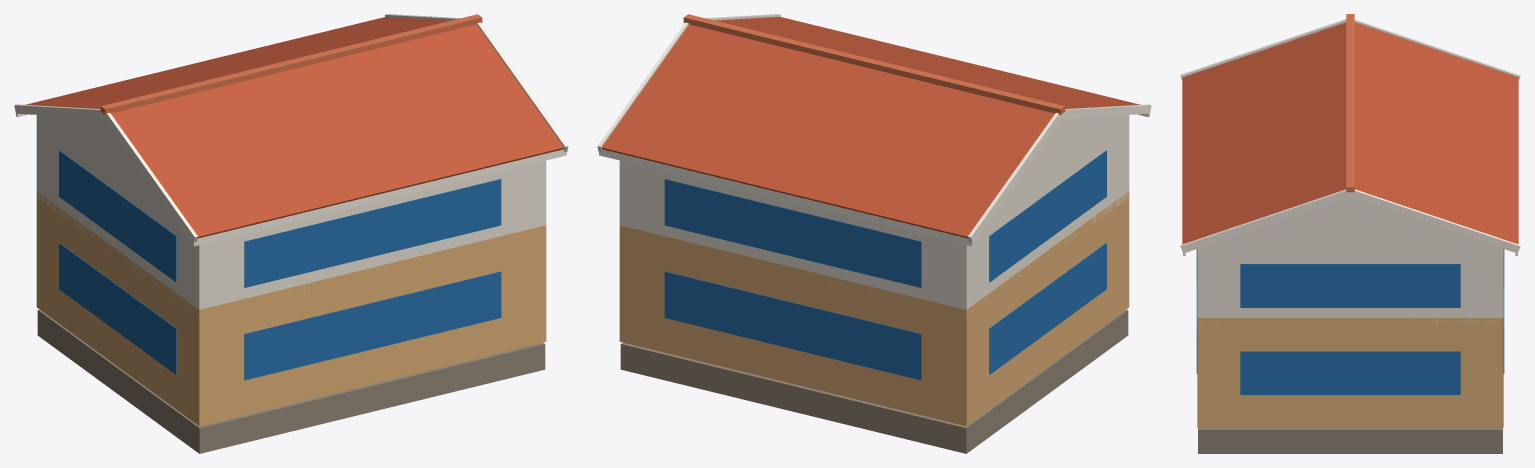
Rendered from 05b_lowrise_village-lod2.glb.
3 views of the same model, side by side, from view 1: azimuth 30°, elevation 25°; view 2: azimuth 150°, elevation 25°; view 3: azimuth 270°, elevation 25° (orthographic). The views are drawn at different scales.
Visible parts, largest first — view 1: LOD2_05b_lowrise_village; view 2: LOD2_05b_lowrise_village; view 3: LOD2_05b_lowrise_village.
Boxes of the visible parts, x1,y1,x2,y2 form: LOD2_05b_lowrise_village: (14,14,568,453); LOD2_05b_lowrise_village: (597,14,1151,453); LOD2_05b_lowrise_village: (1180,14,1520,453).
Size of the model in its own units: 11.52 by 8.49 by 9.56.
2 materials, 2 textured.
